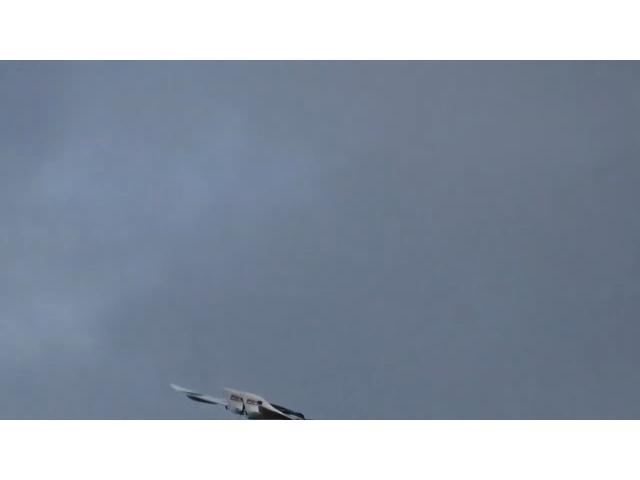Anti-Drone: (168, 379, 310, 419)
